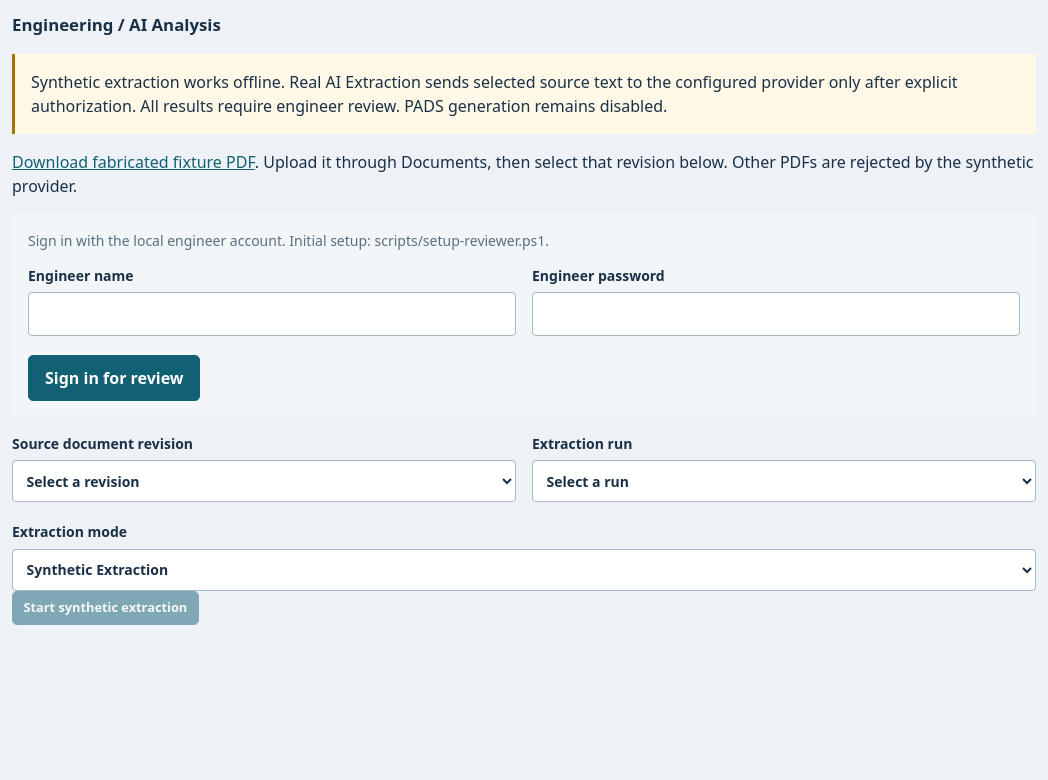
Test: requires reviewer sign-in and preserves an error from the server
Step 1. Select "Synthetic · TEST · fabricated.pdf" in the dropdown labelled "Source document revision" → [264, 481], box [12,460,516,502]
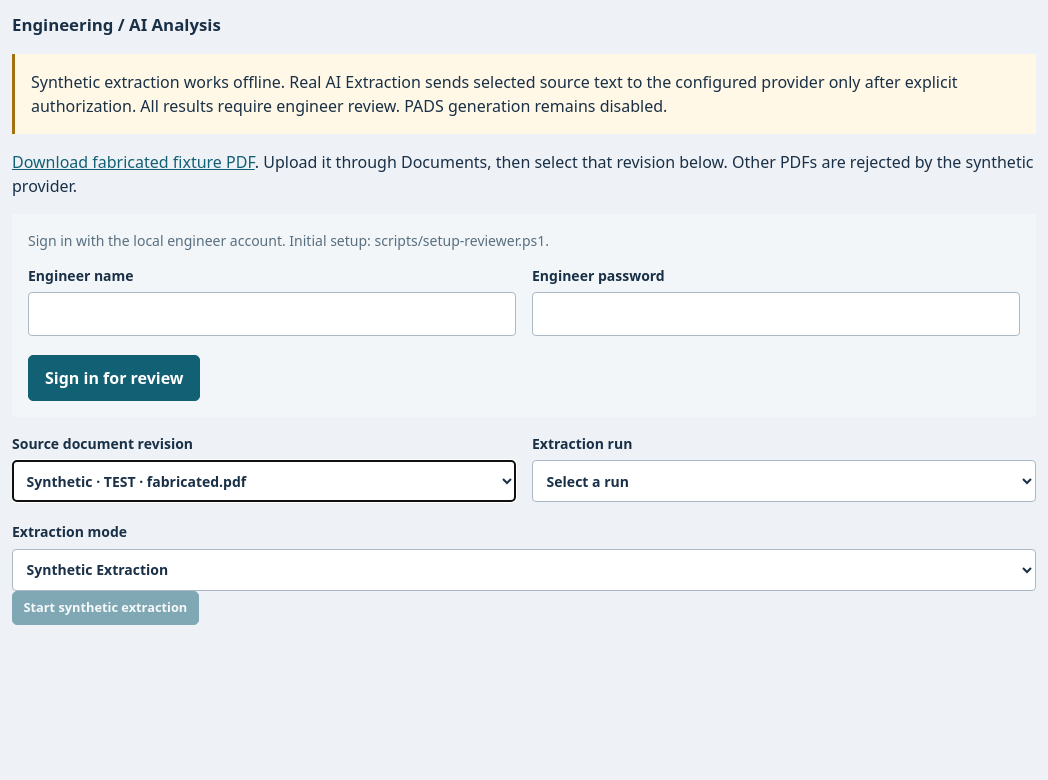
Expected: the button "Start synthetic extraction" is disabled, [12,591,199,625]
Step 2. Type "Engineer" into the field labelled "Engineer name" → [272, 314], box [28,292,516,336]
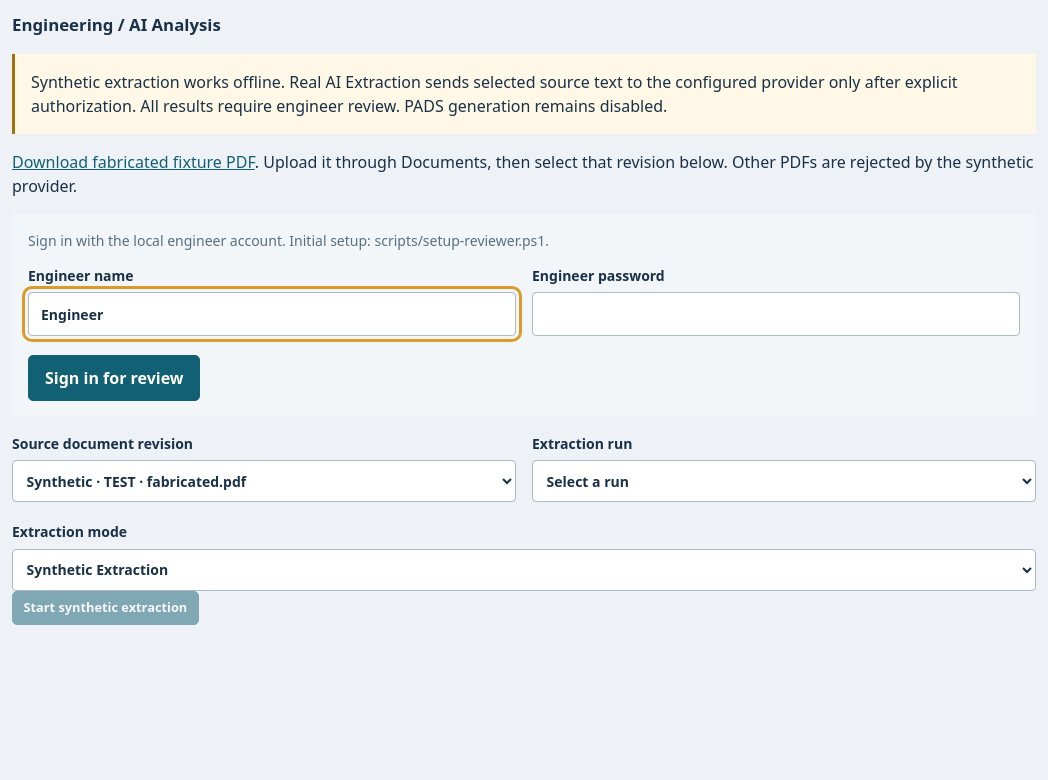
Step 3. Type "incorrect-password" into the password field labelled "Engineer password" → [776, 314], box [532,292,1020,336]
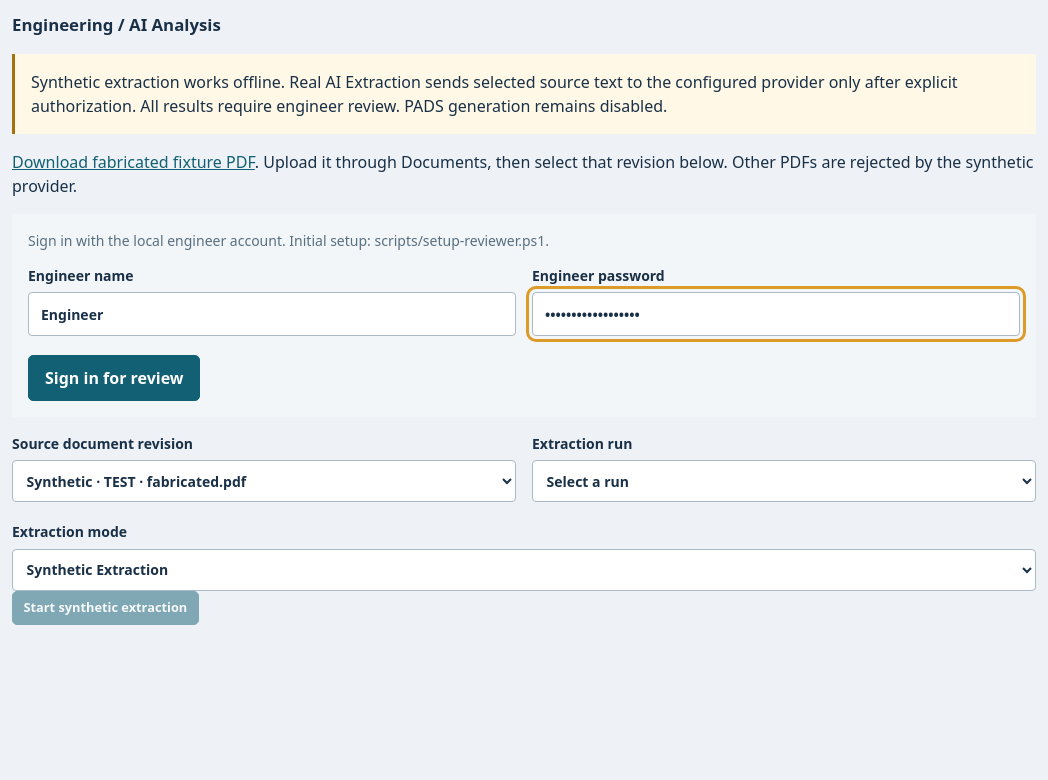
Step 4. Click the button "Sign in for review" → [114, 378], box [28,355,200,400]
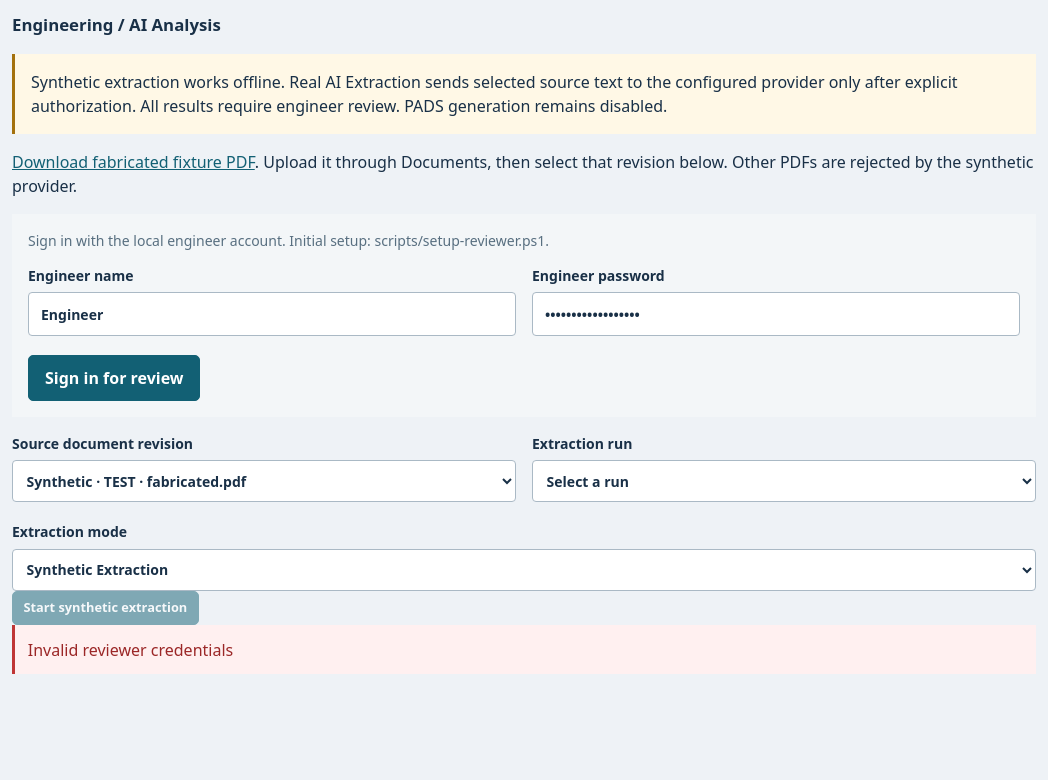
Now the message "Invalid reviewer credentials" is shown, box [12,625,1036,674]
Now the message reads "Invalid reviewer credentials", box [28,639,233,661]
